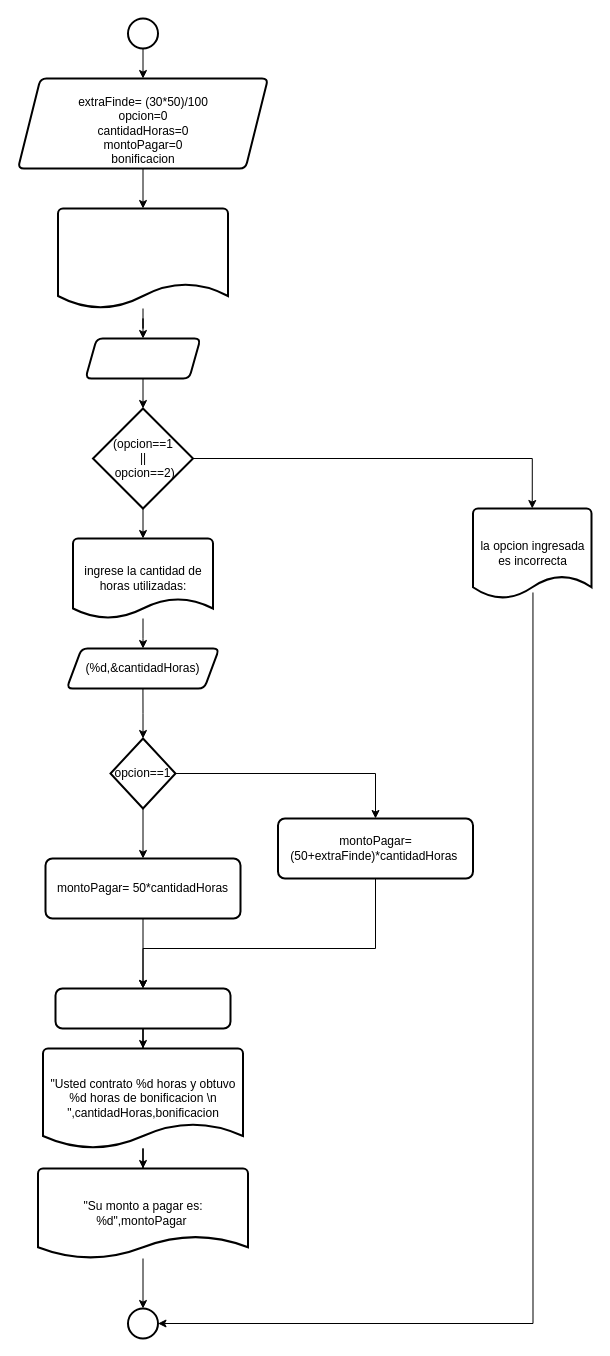
Some shapes in this 610 by 1356 pixel diagram are drawn without their labels. Here are the shapes that lost their labels. From the top down, the centre of each, then its label:
[142,33]: inicio
[142,258]: ingrese 1 para modalidad semanal o 2 para modalidad de finde semana
[142,358]: ("%d,&opcion)
[142,1008]: bonificacion=cantidadHoras/2
[142,1323]: fin
